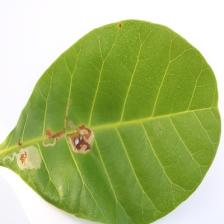leaf miner: (3, 105, 105, 172)
